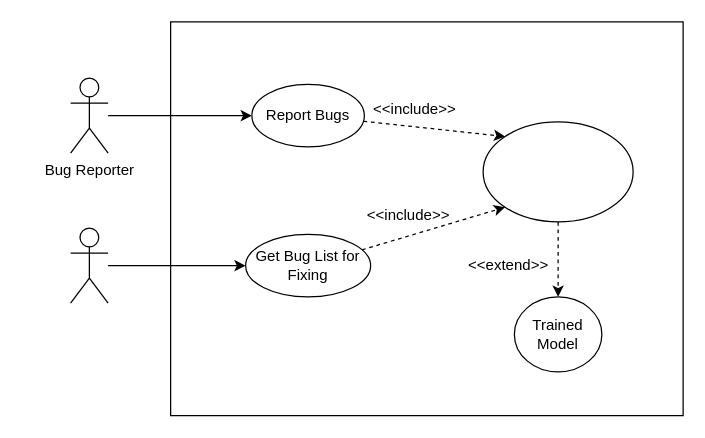
This 705x438 diagram has some shape labels left out. The centre of each missing label's shape, as x and y in pixels:
"Development Teams" belongs at point 88,265.
"Train Data, Suggest Team to fix, Display Bug List" belongs at point 557,171.
